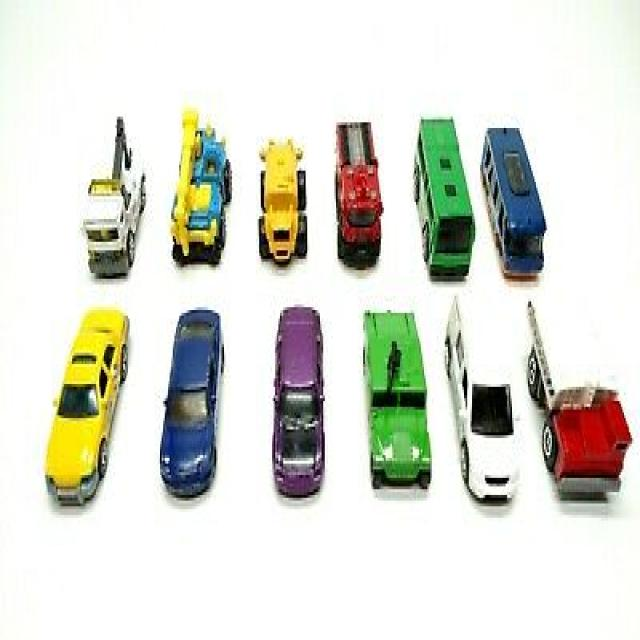Car: (43, 304, 130, 506), (443, 293, 520, 503), (158, 307, 224, 498), (362, 307, 431, 489), (270, 304, 325, 498), (81, 114, 146, 276), (333, 120, 382, 268)
